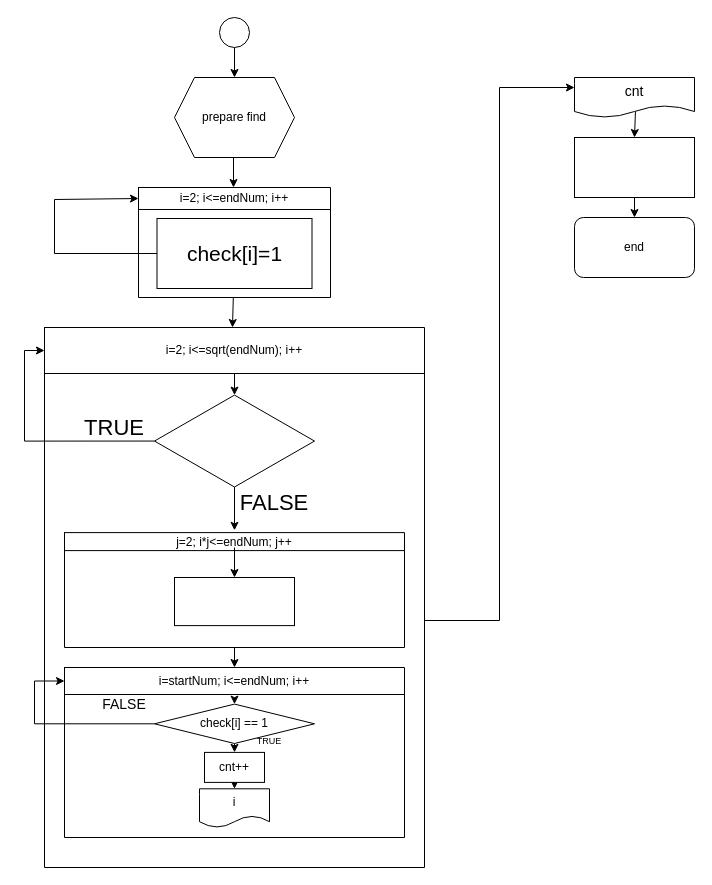
Some shapes in this 712 by 885 pixel diagram are drawn without their labels. Each missing label, with the centre of its shape:
!check[i]: point (234, 440)
check[i*j]=0: point (234, 601)
free(check): point (634, 167)
